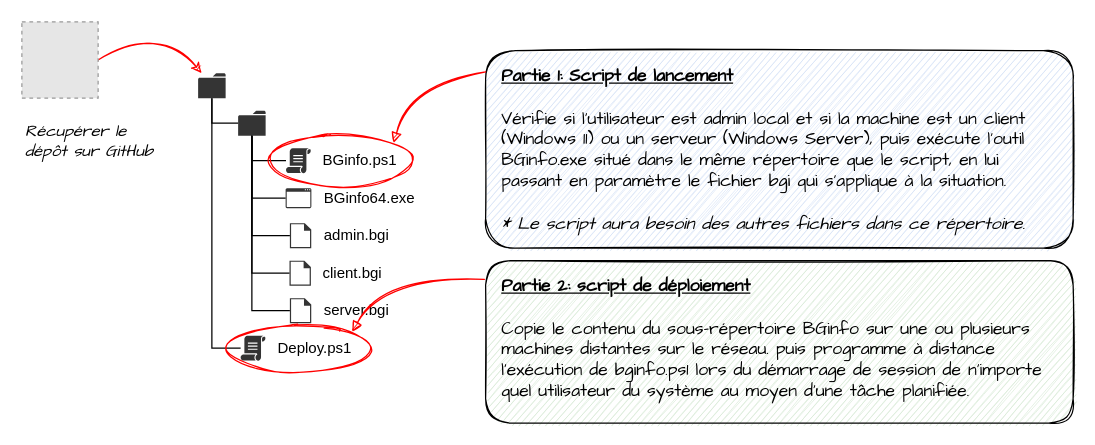
Image size: 1095x445. Some labels were removed from this diagram. Grey dashed boxes stand in for pictures. The shapes that lost their labels are listed below. From the top down, each one's box as (x1, y1, x2, y2) in pixels, then its label:
(198, 72, 225, 98): (racine du dépôt)
(238, 110, 265, 135): BGinfo
